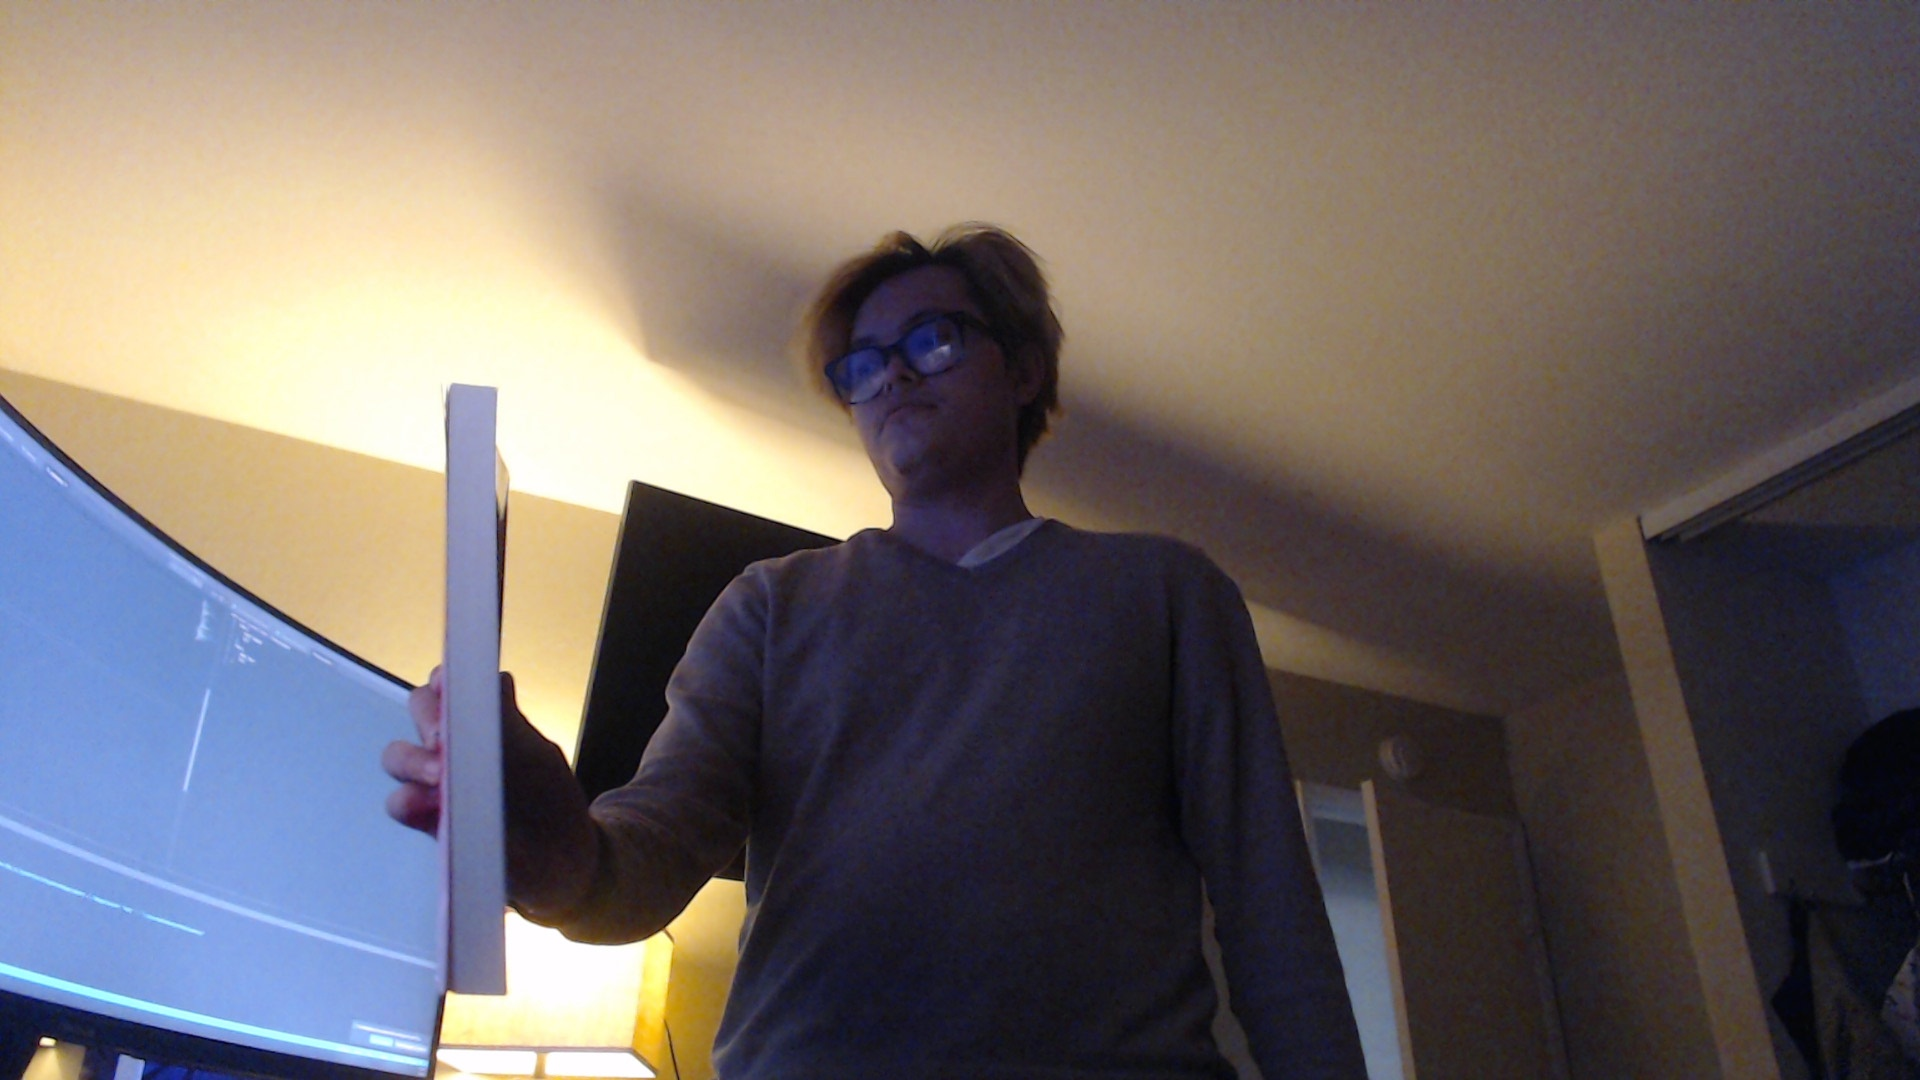book: (436, 382, 512, 1004)
